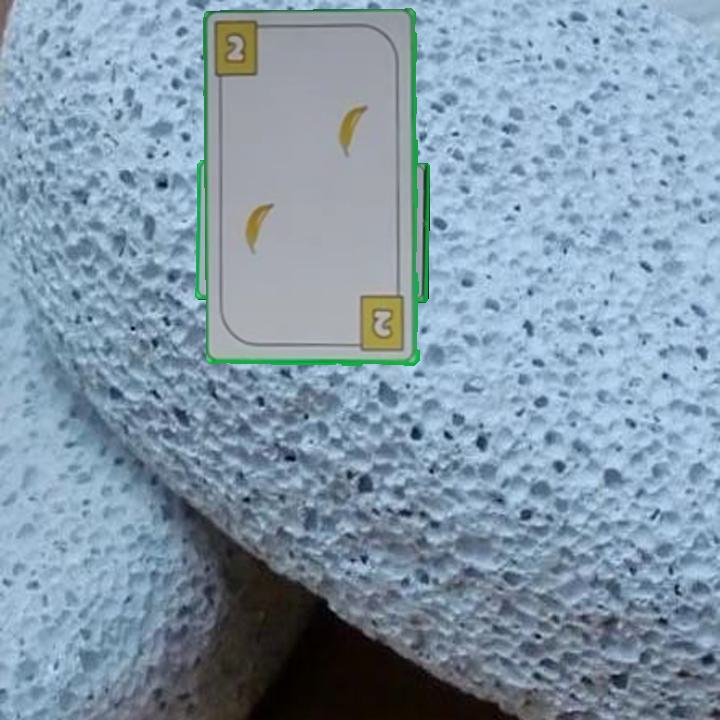2b: (347, 293, 409, 355), (224, 32, 248, 64)
